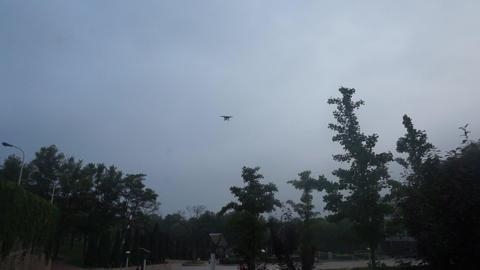UAV: (220, 116, 234, 121)
